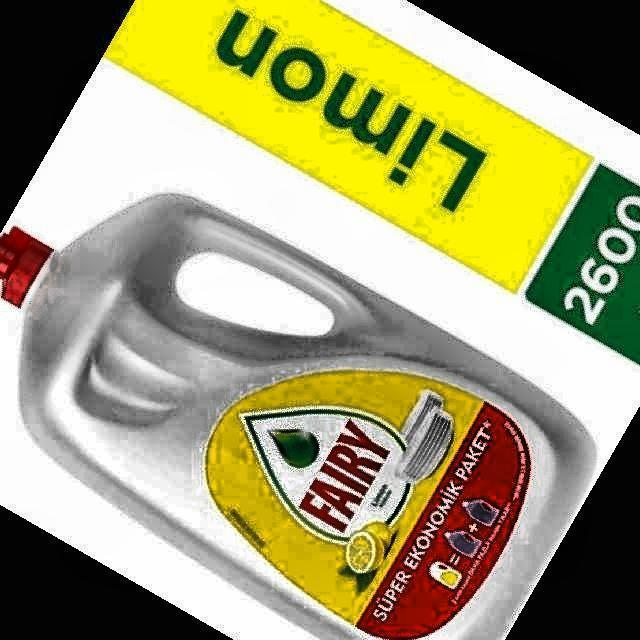plastic: (0, 194, 596, 640)
